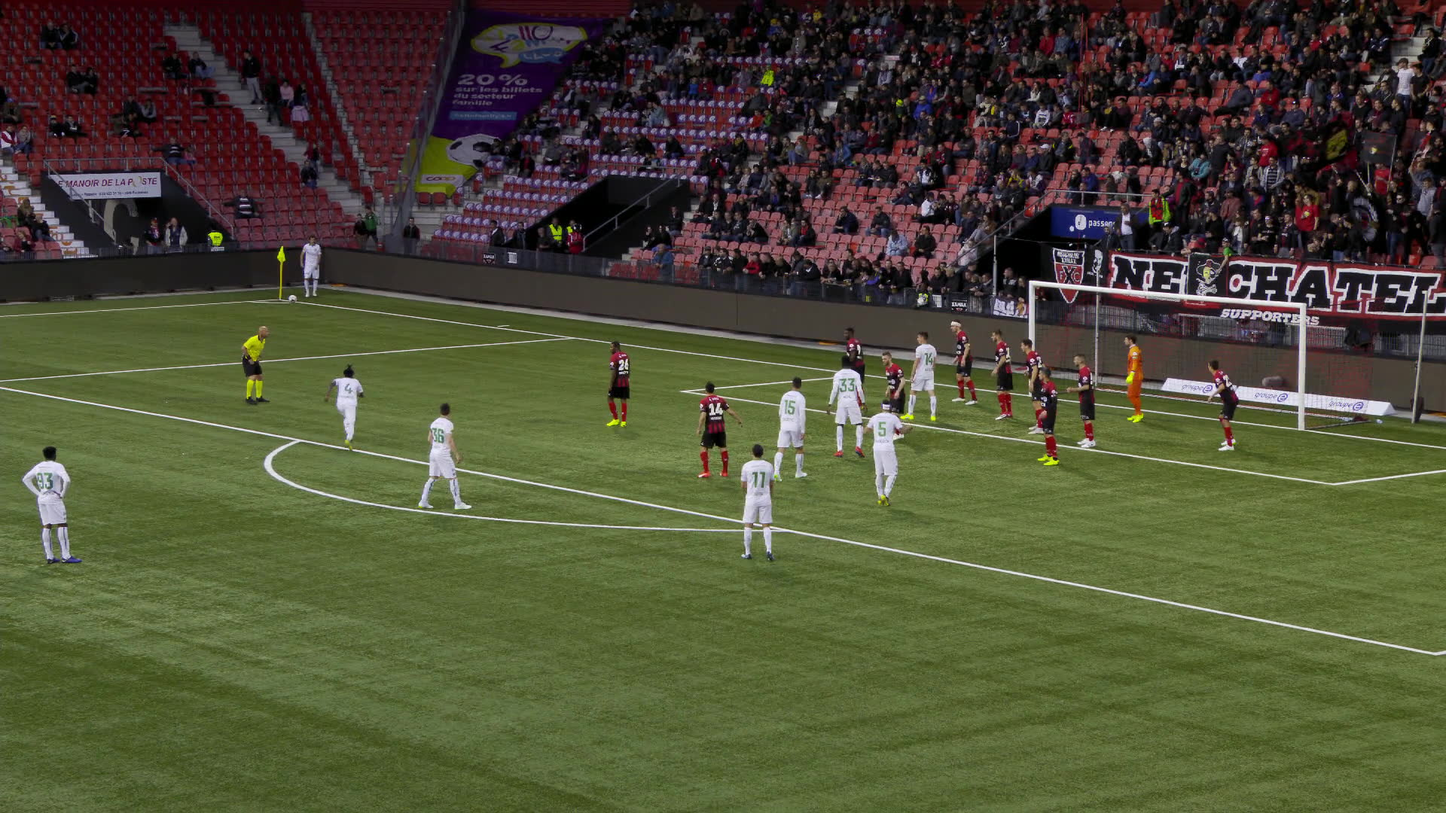ball: (288, 294, 295, 302)
player: (21, 446, 80, 563), (419, 403, 466, 509), (690, 381, 741, 477), (738, 442, 774, 559), (868, 399, 907, 504), (828, 355, 868, 456), (773, 376, 809, 480), (328, 366, 370, 447), (899, 330, 935, 420), (1207, 358, 1237, 449), (1066, 354, 1095, 446), (950, 319, 978, 403), (605, 341, 631, 427), (880, 350, 905, 439), (1020, 339, 1041, 433), (1037, 367, 1057, 464), (991, 330, 1012, 419), (842, 327, 864, 409), (1122, 334, 1142, 422), (300, 237, 319, 297)
referee: (239, 326, 267, 403)
